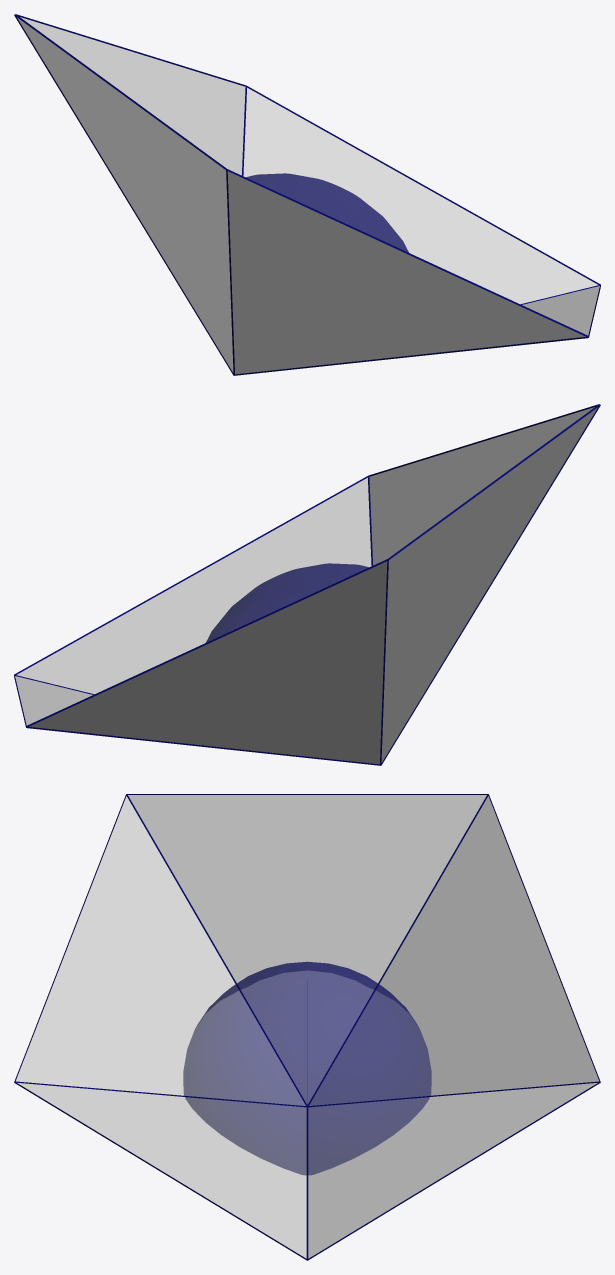
The model's file is ang_solido_icosaedro.glb.
3 renders of one model, top to bottom at view 1: azimuth 30°, elevation 25°; view 2: azimuth 150°, elevation 25°; view 3: azimuth 270°, elevation 25°, orthographic. The views are drawn at different scales.
Parts seen in each view (by area): view 1: Solid, Solid.002, Solid.001; view 2: Solid, Solid.002, Solid.001; view 3: Solid, Solid.001, Solid.002.
Part boxes in pixels (x1,y1,x2,y2): Solid: [17, 17, 599, 374]; Solid.002: [14, 14, 600, 375]; Solid.001: [246, 173, 408, 252]; Solid: [15, 407, 597, 764]; Solid.002: [14, 404, 600, 765]; Solid.001: [206, 563, 368, 642]; Solid: [16, 795, 598, 1258]; Solid.001: [183, 961, 431, 1175]; Solid.002: [14, 794, 600, 1260].
Bounding box in the file's own units: 2.2 × 1.37 × 2.73.
